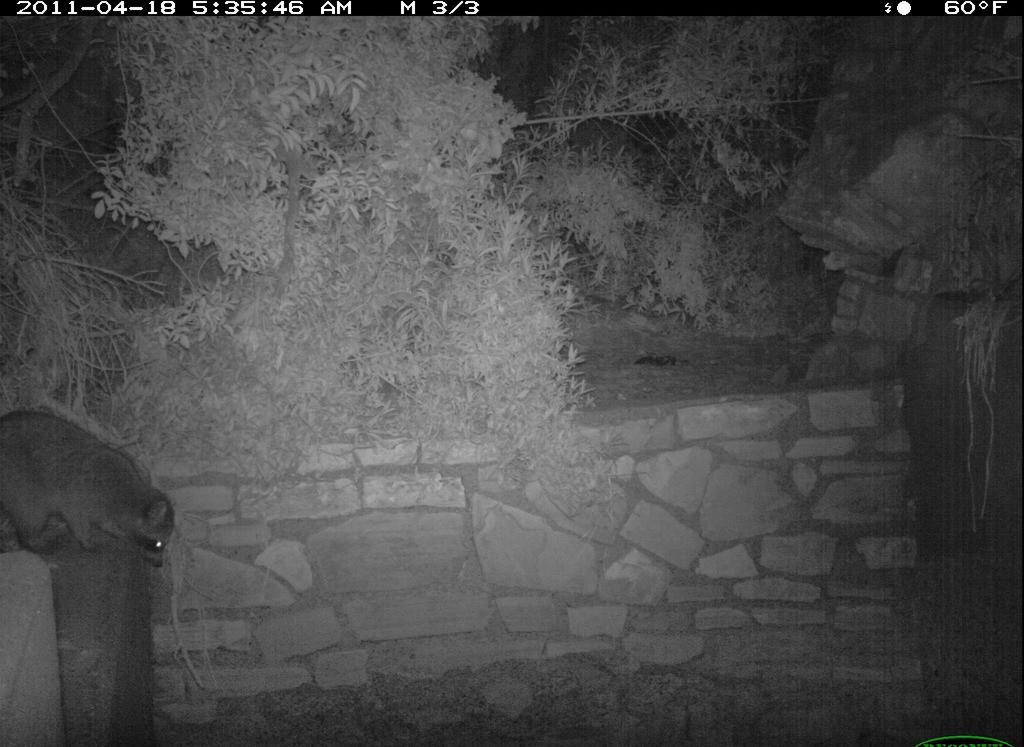raccoon: (3, 399, 189, 580)
